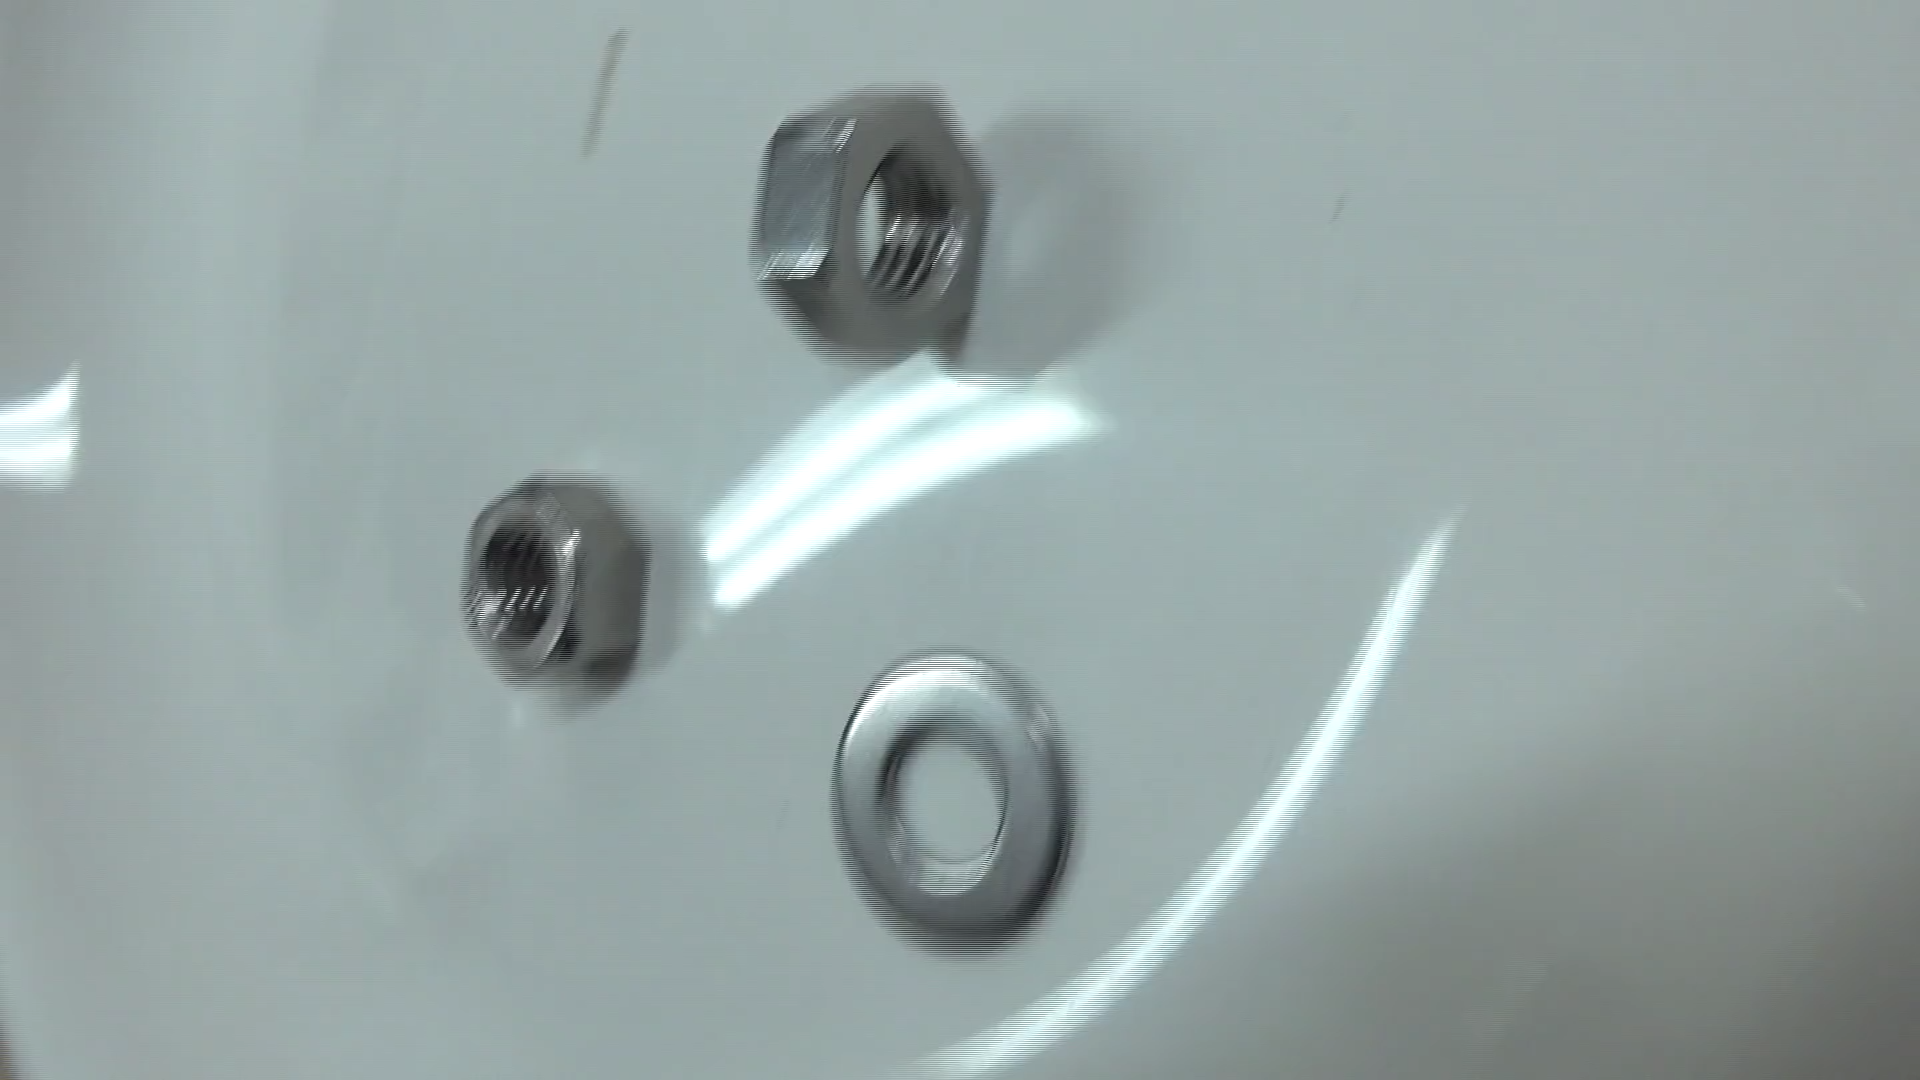nut: (703, 57, 1040, 410), (429, 451, 673, 717)
washer: (798, 626, 1101, 967)
